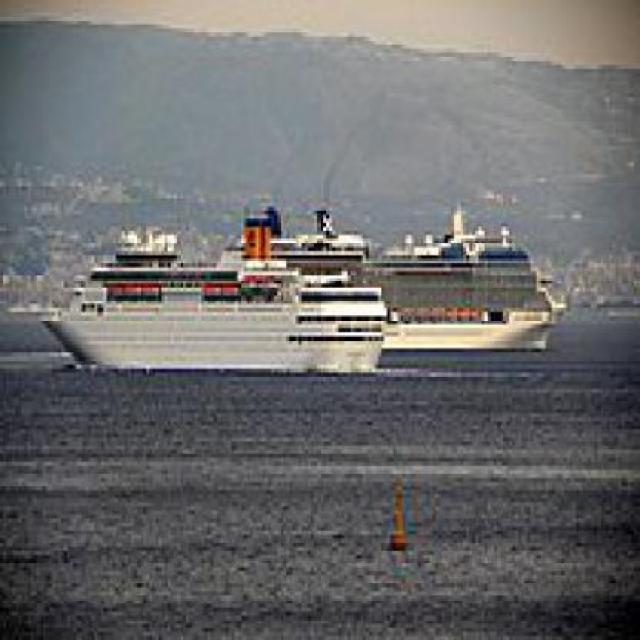cruise: (34, 192, 394, 381)
